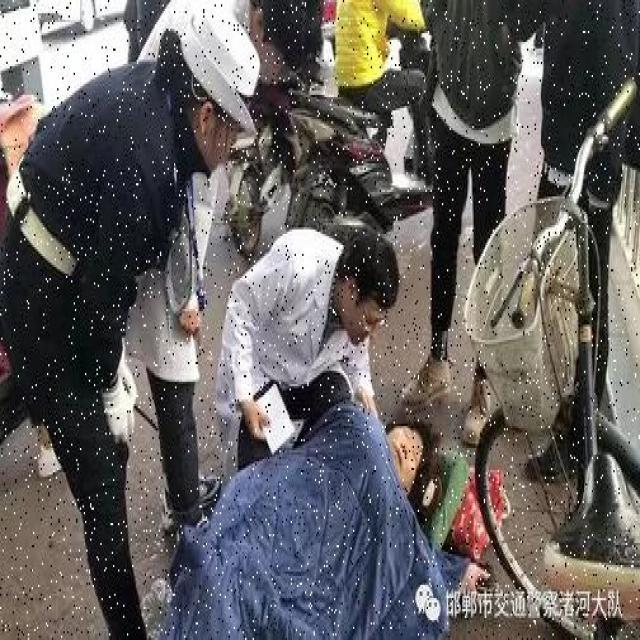fall: (172, 412, 438, 638)
